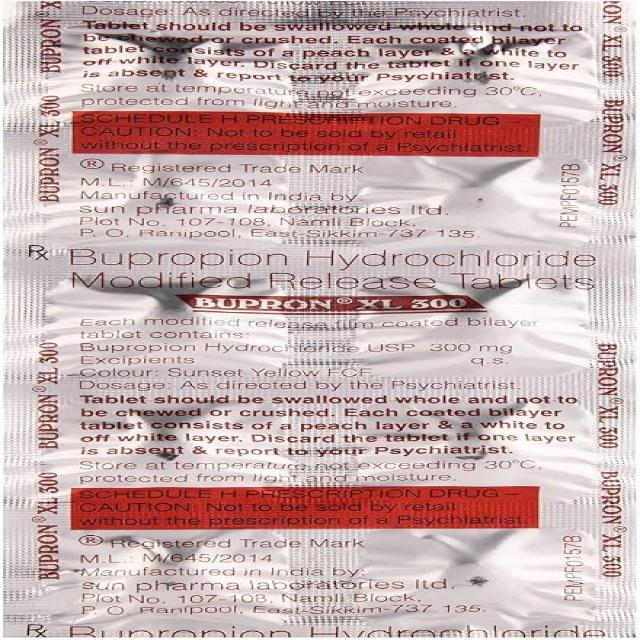Medicine-name: (38, 243, 623, 295)
